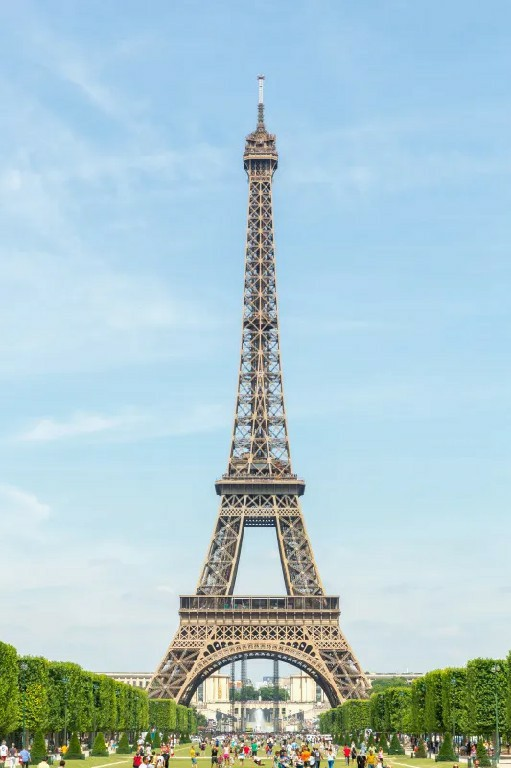Eiffel: (146, 74, 376, 705)
